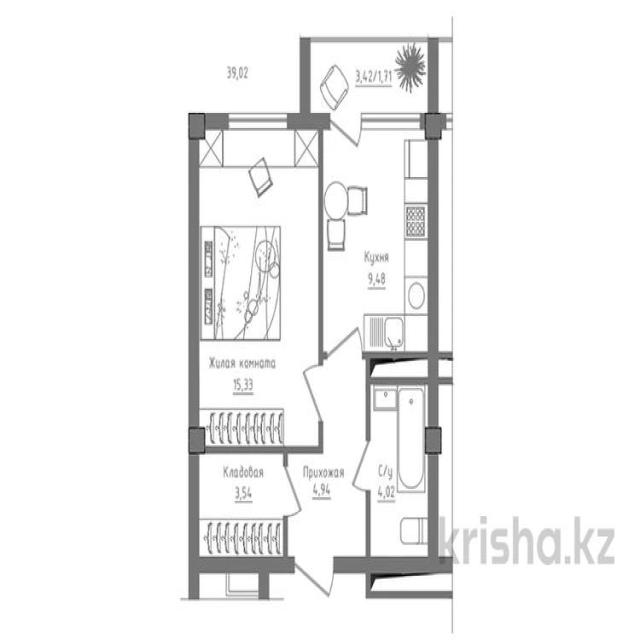bathroom: (368, 373, 451, 565)
hallway: (289, 454, 362, 555)
kitchen: (324, 127, 441, 354)
living_room: (195, 122, 320, 447)
other: (306, 39, 439, 114), (196, 453, 287, 559)
